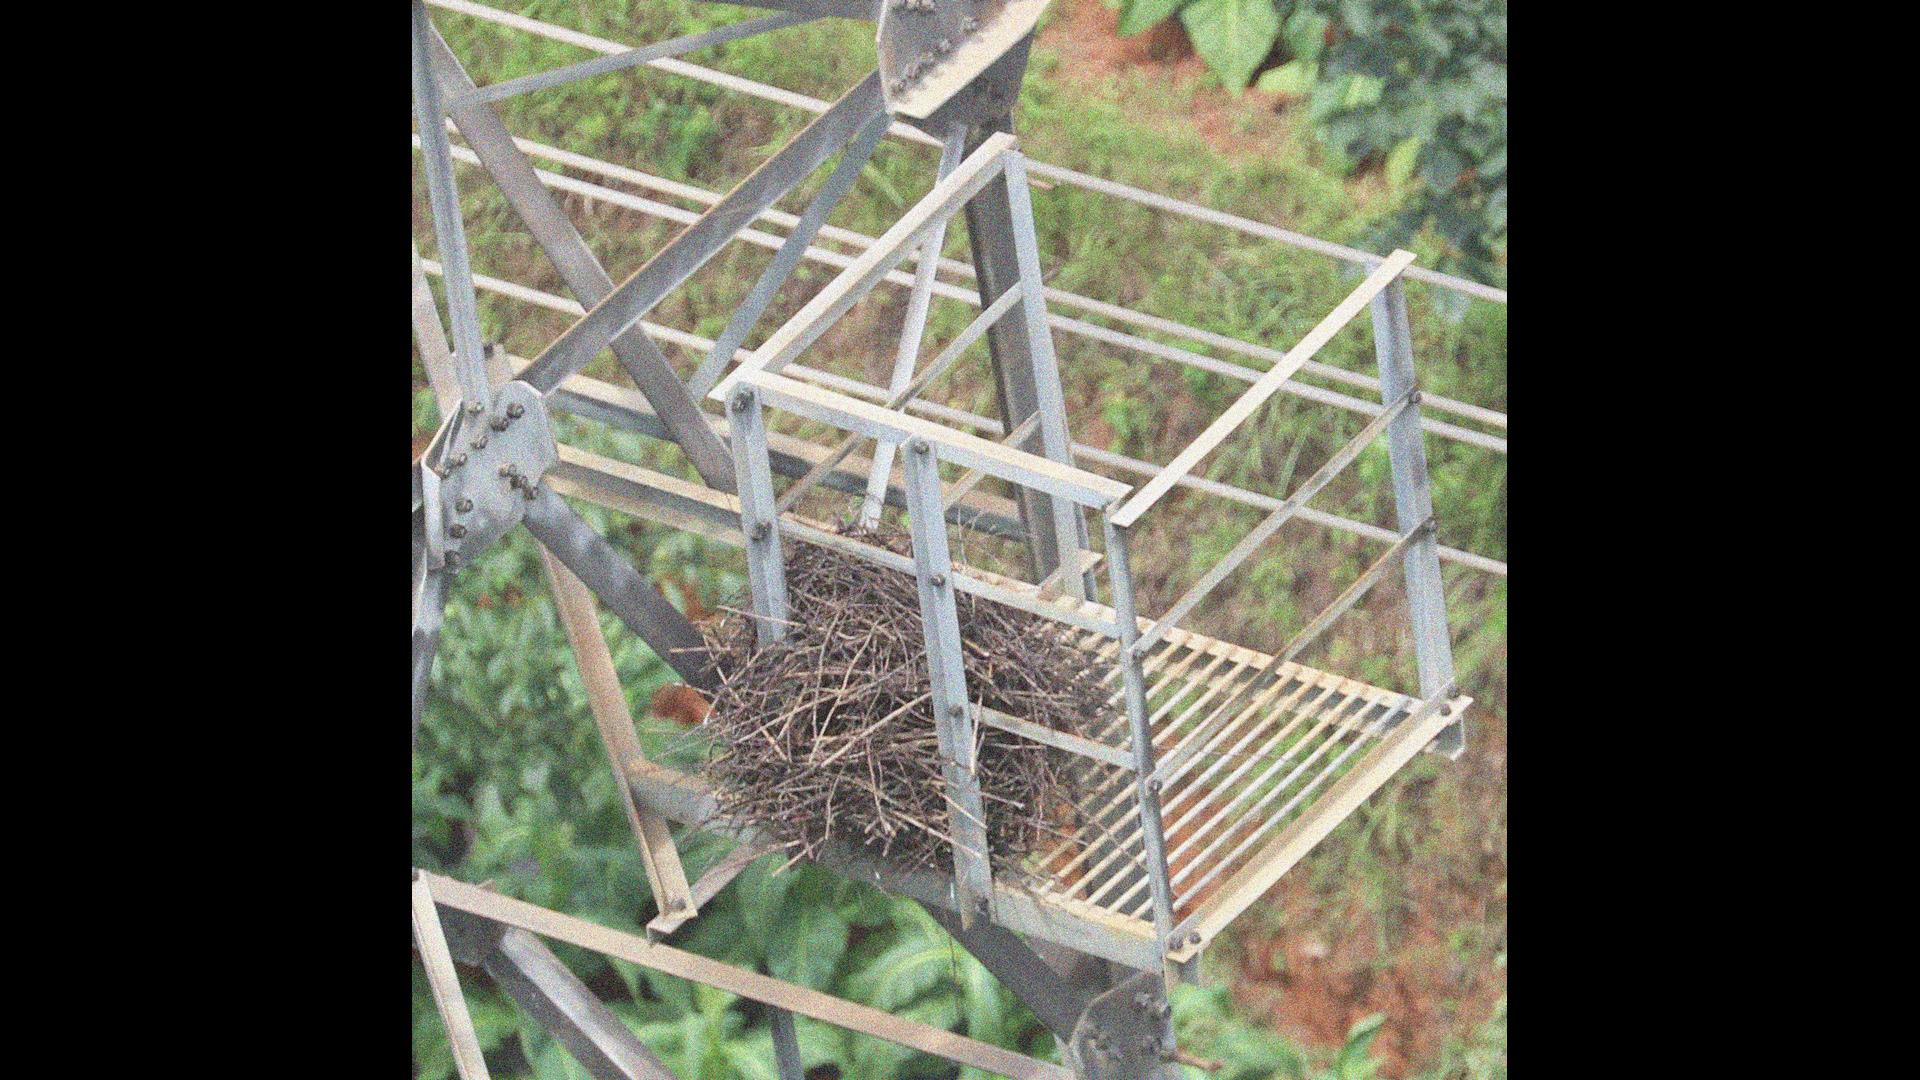niaowo: (683, 510, 1127, 880)
